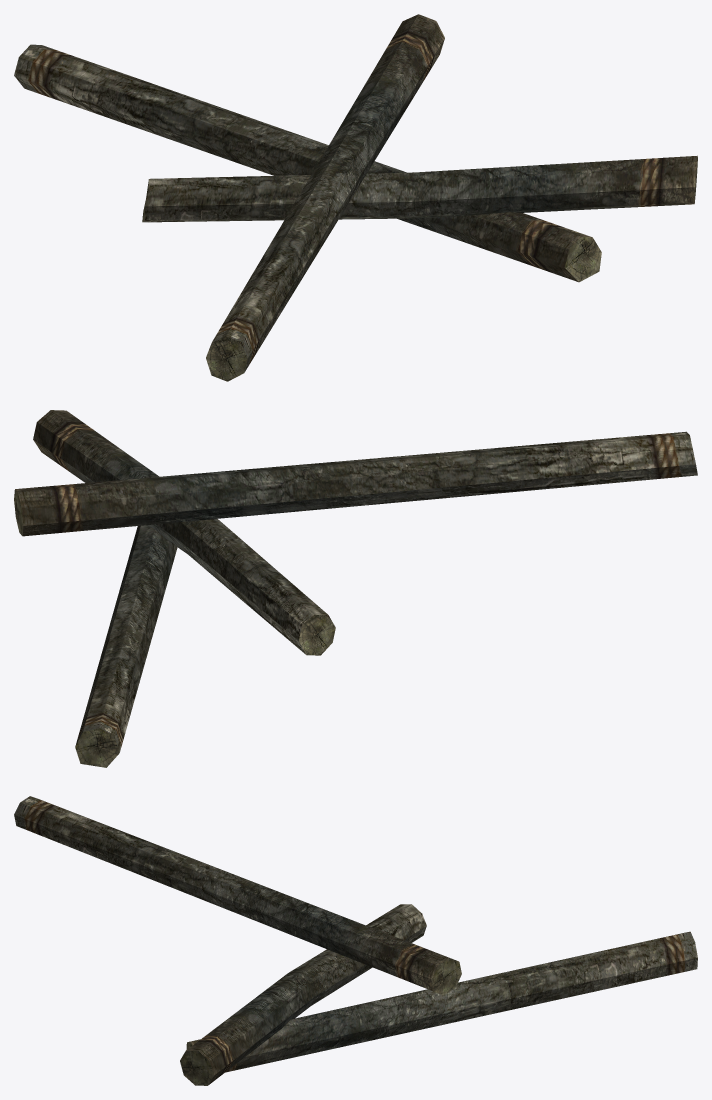
Rendered from camp_woodhut_break03.fbx.
3 views of the same model, one above another, from view 1: azimuth 30°, elevation 25°; view 2: azimuth 150°, elevation 25°; view 3: azimuth 270°, elevation 25° (orthographic). The views are drawn at different scales.
Parts seen in each view (by area): view 1: camp_woodhut_break03; view 2: camp_woodhut_break03; view 3: camp_woodhut_break03.
Part boxes in pixels (left/top/right/bottom): camp_woodhut_break03: left=14, top=14, right=697, bottom=381; camp_woodhut_break03: left=14, top=410, right=697, bottom=767; camp_woodhut_break03: left=14, top=796, right=697, bottom=1085.
Bounding box in the file's own units: 4.26 × 0.9907 × 5.26.
